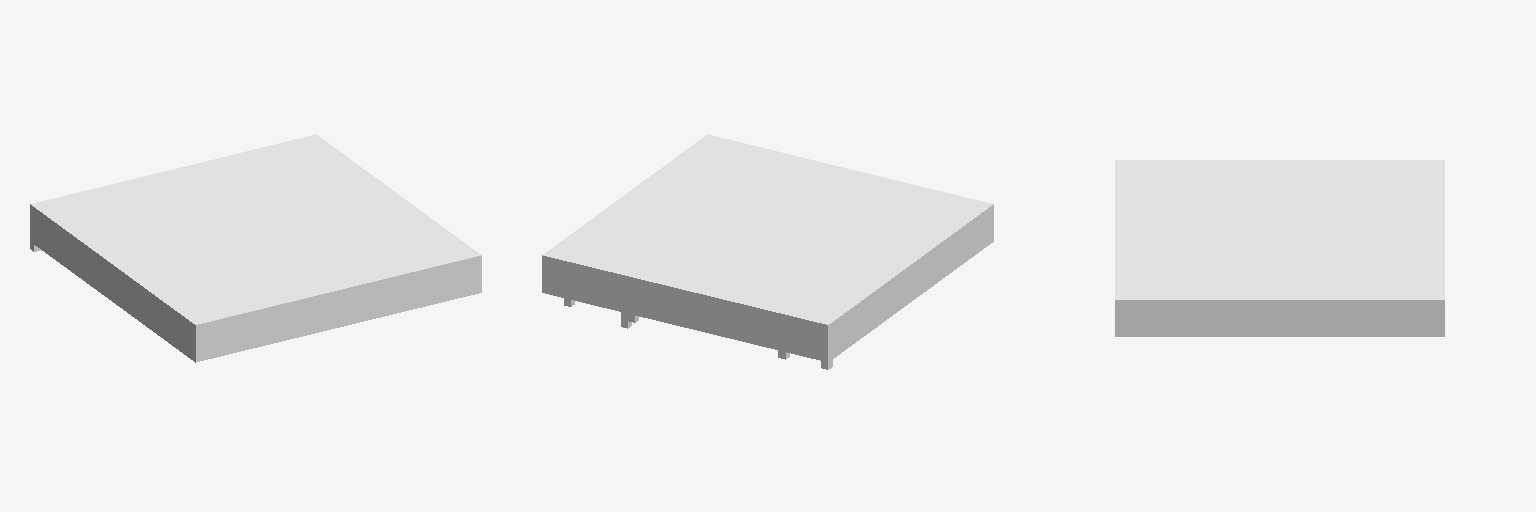
The model's file is Decor_FloorTile1.obj.
3 views of the same model, side by side, from view 1: azimuth 30°, elevation 25°; view 2: azimuth 150°, elevation 25°; view 3: azimuth 270°, elevation 25° (orthographic).
Parts seen in each view (by area): view 1: object 1; view 2: object 1; view 3: object 1.
Boxes of the visible parts, <box> form: object 1: <box>30,134,481,362</box>; object 1: <box>542,134,993,369</box>; object 1: <box>1115,160,1444,336</box>.
Bounding box in the file's own units: 4 × 0.7 × 4.